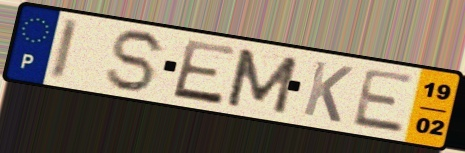E: (169, 37, 240, 108), (349, 66, 418, 136)
I: (47, 15, 82, 84)
K: (299, 58, 356, 126)
M: (223, 46, 302, 117)
S: (103, 28, 171, 95)
